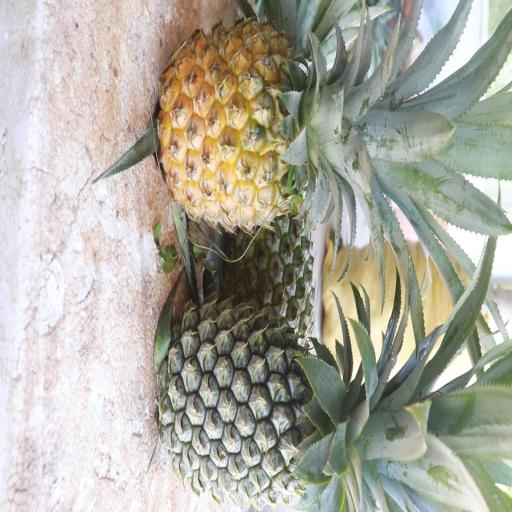Pineapple - v8 v1: (153, 9, 433, 243)
